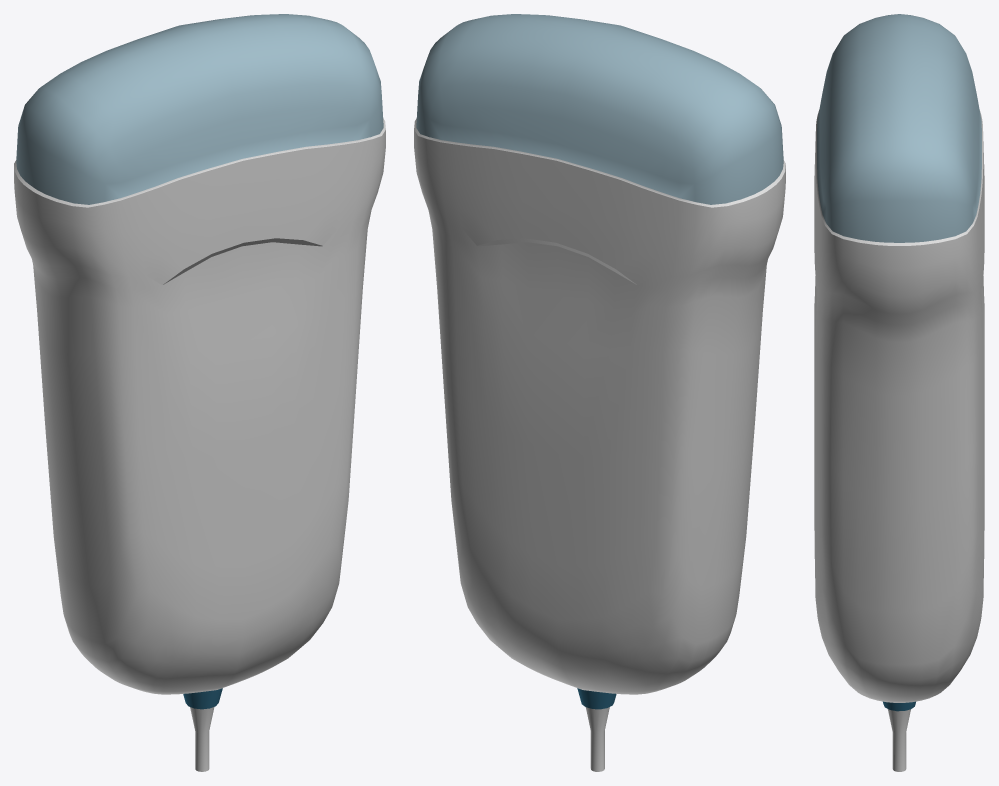
File: Model_Ecograph.fbx
3 views of the same model, side by side, from view 1: azimuth 30°, elevation 25°; view 2: azimuth 150°, elevation 25°; view 3: azimuth 270°, elevation 25° (orthographic). The views are drawn at different scales.
Visible parts, largest first — view 1: Model_Eco; view 2: Model_Eco; view 3: Model_Eco.
Part boxes in pixels (x1=…): Model_Eco: x1=14, y1=14, x2=385, y2=771; Model_Eco: x1=414, y1=14, x2=785, y2=771; Model_Eco: x1=814, y1=14, x2=984, y2=771.
Size of the model in its own units: 8.86 by 18.2 by 3.94.
